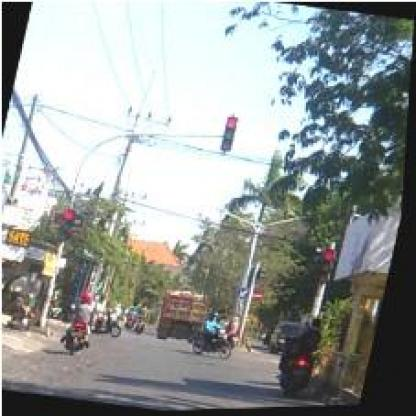red: (316, 247, 340, 288), (220, 114, 238, 154), (59, 208, 77, 243)
